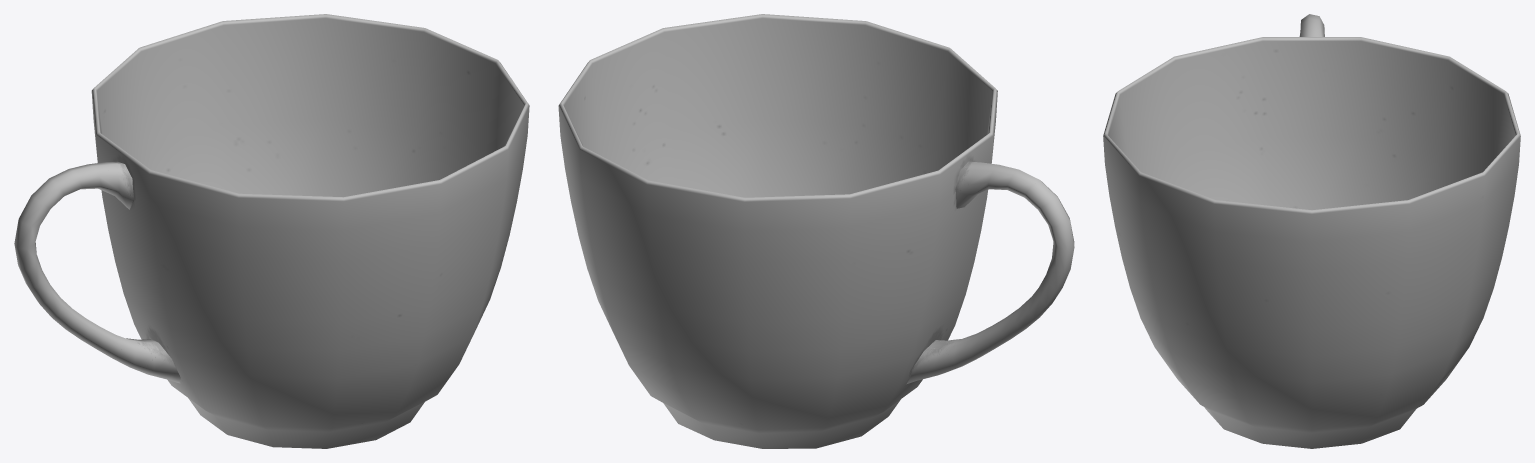
Rendered from Cup_01.fbx.
3 views of the same model, side by side, from view 1: azimuth 30°, elevation 25°; view 2: azimuth 150°, elevation 25°; view 3: azimuth 270°, elevation 25° (orthographic). The views are drawn at different scales.
Parts seen in each view (by area): view 1: nurbsToPoly1, nurbsToPoly2; view 2: nurbsToPoly1, nurbsToPoly2; view 3: nurbsToPoly1, nurbsToPoly2.
Boxes of the visible parts, bbox=[...] form: nurbsToPoly1: bbox=[91, 14, 529, 448]; nurbsToPoly2: bbox=[14, 161, 180, 383]; nurbsToPoly1: bbox=[558, 14, 997, 448]; nurbsToPoly2: bbox=[906, 161, 1074, 384]; nurbsToPoly1: bbox=[1103, 37, 1520, 448]; nurbsToPoly2: bbox=[1299, 14, 1324, 36].
Size of the model in its own units: 15.02 by 8.78 by 11.82.
1 material, 1 textured.
